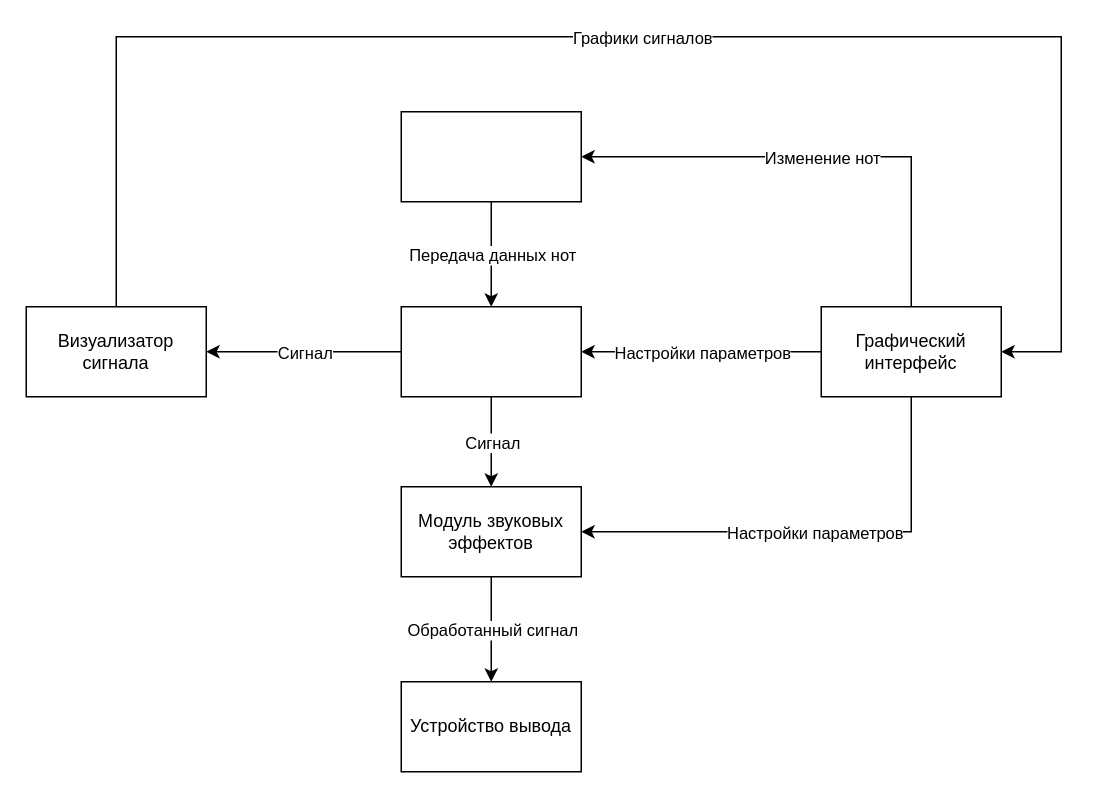
The diagram is 1100 pixels wide and 798 high, and some of its shapes have lost their labels. The centre of each missing label's shape, as x and y in pixels:
Генератор звуковых сигналов: the point at 490,351
Редактор нот: the point at 490,156
